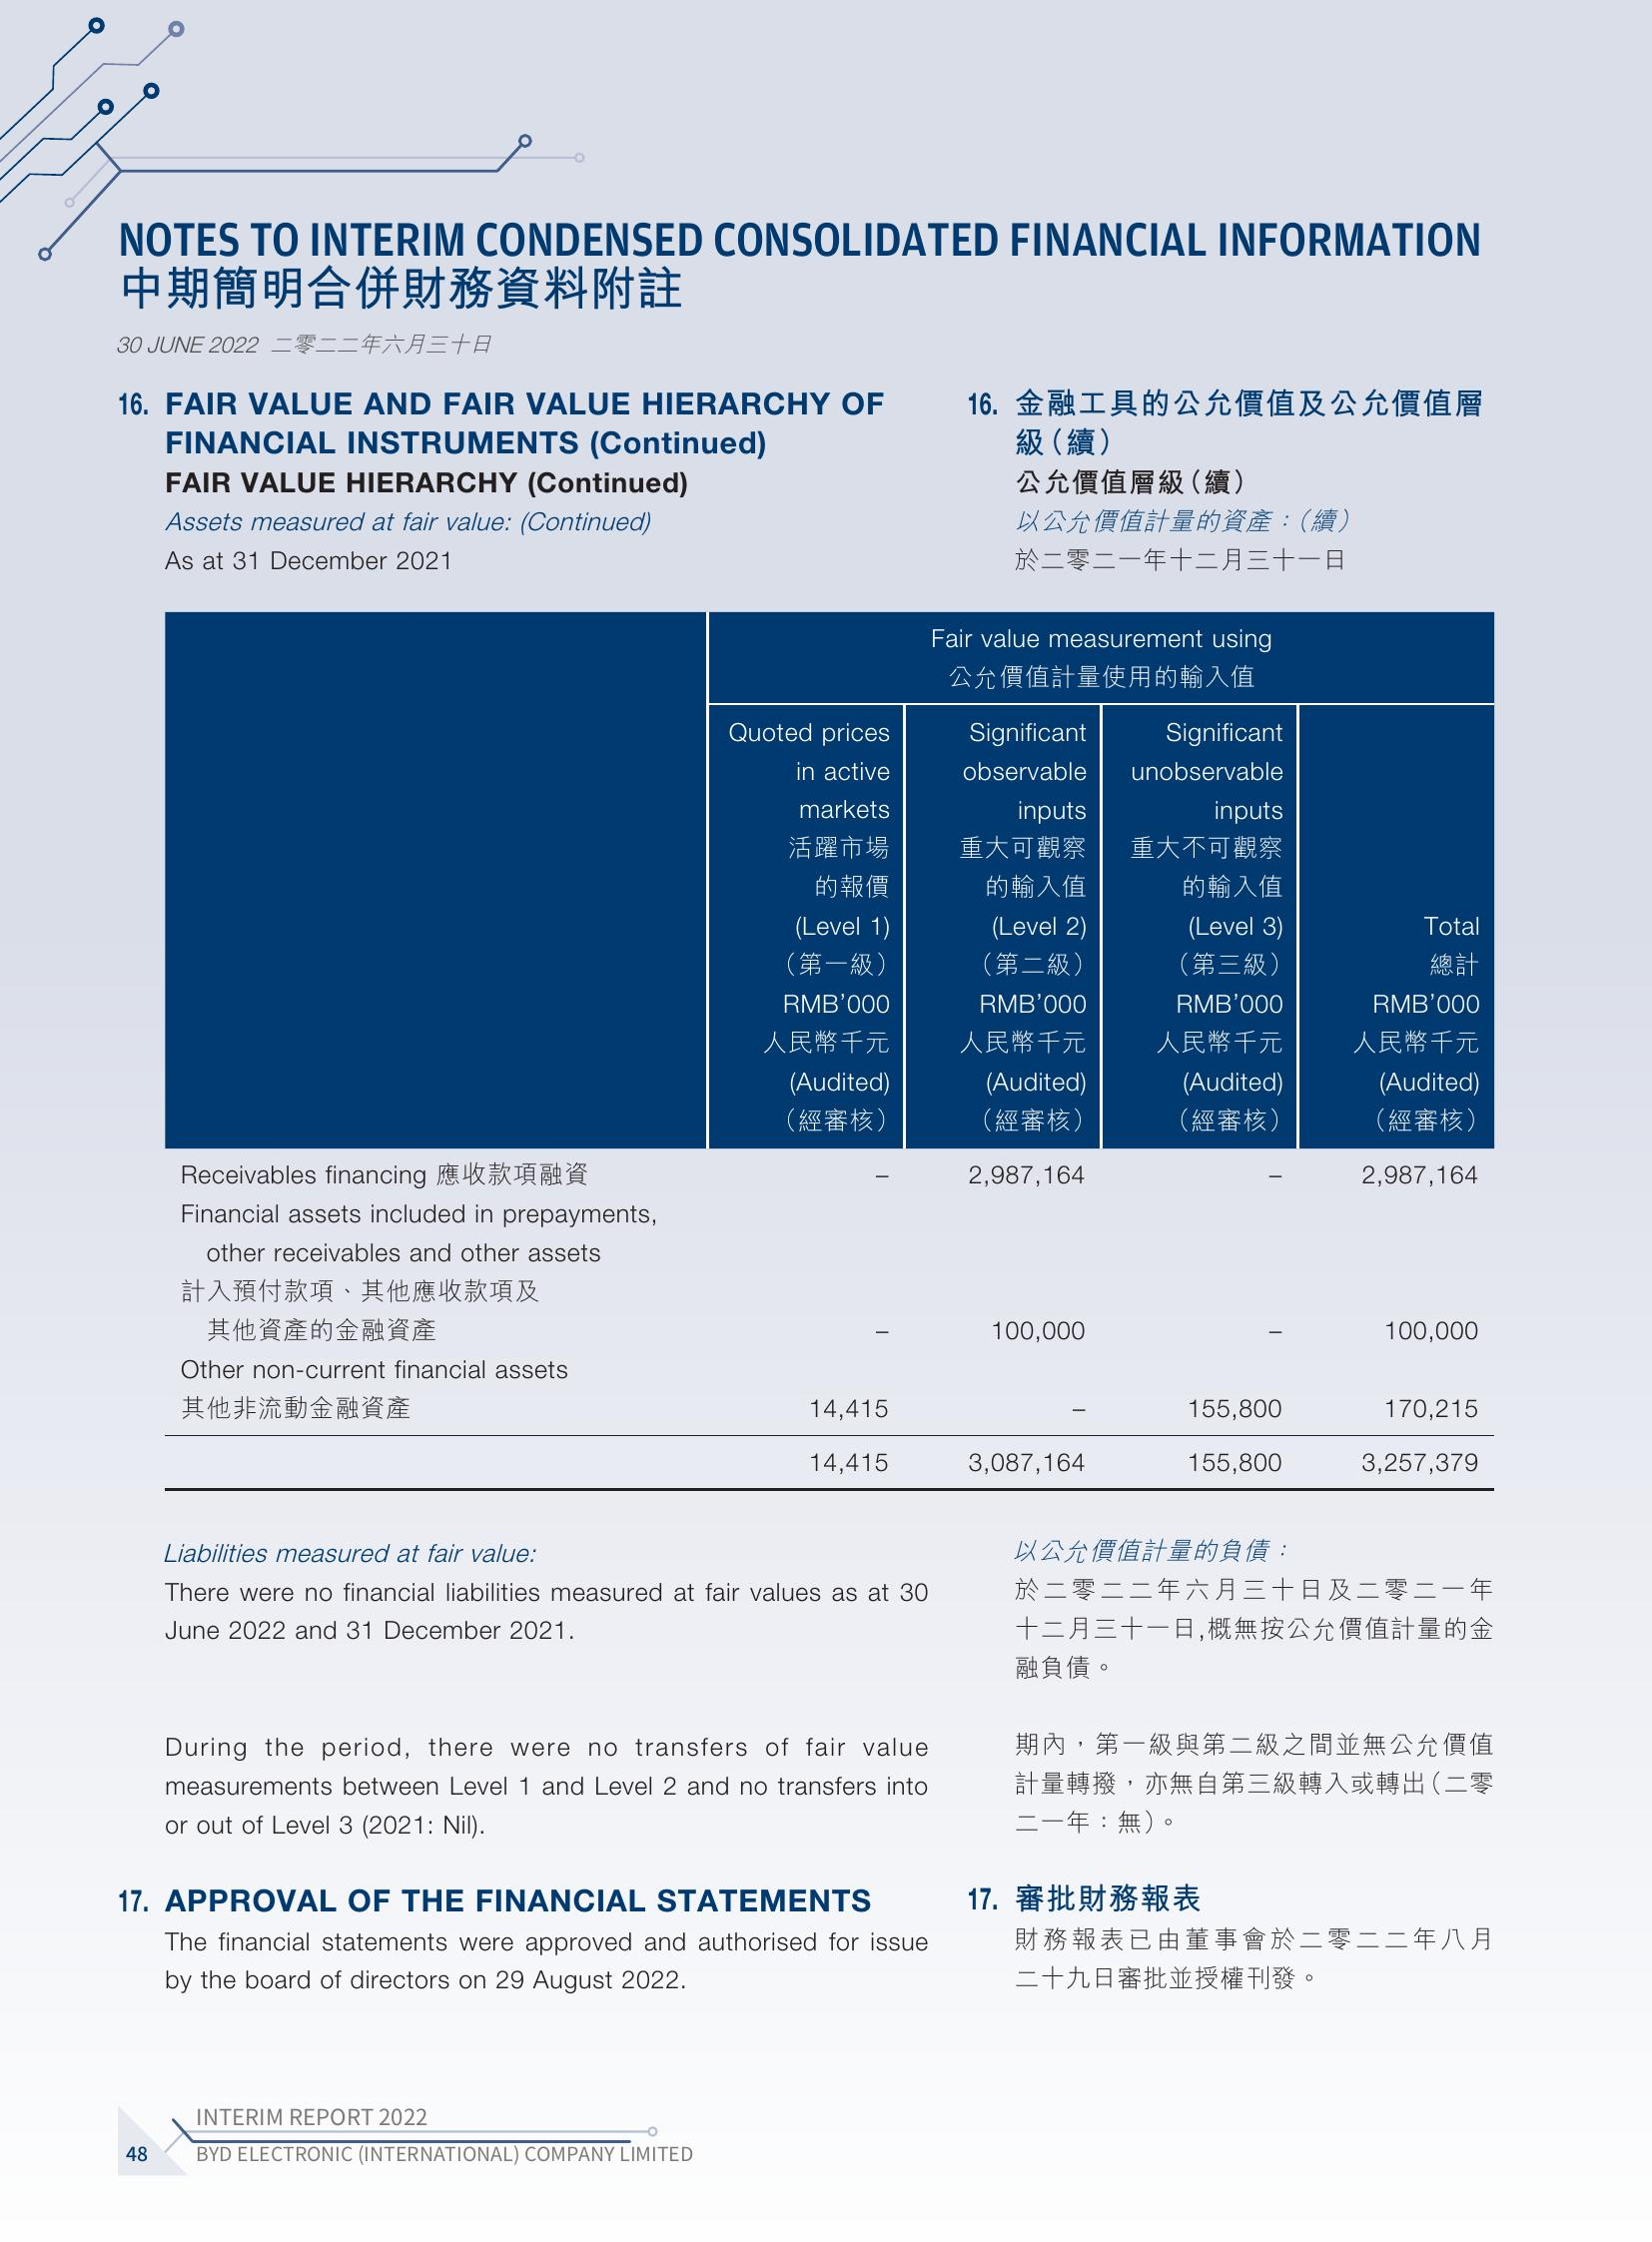Footer: (0, 2089, 1652, 2242)
Header: (0, 0, 1652, 188)
Table: (136, 599, 1516, 1525)
